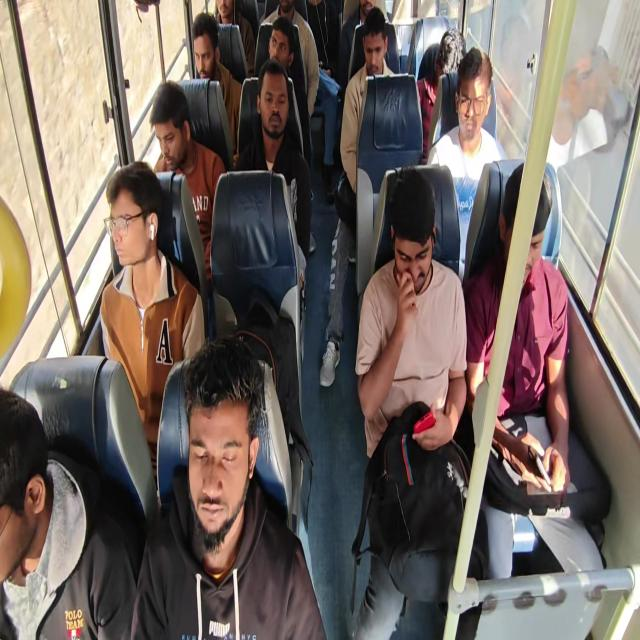person: (183, 321, 292, 558), (72, 179, 212, 355), (486, 173, 600, 364), (383, 164, 454, 360), (418, 31, 496, 128), (17, 357, 60, 532), (125, 92, 203, 184), (244, 76, 296, 154), (457, 67, 499, 162), (297, 0, 331, 76), (250, 24, 295, 78), (184, 30, 226, 87), (365, 9, 402, 73), (212, 0, 247, 34), (352, 0, 389, 21), (272, 0, 298, 28)
